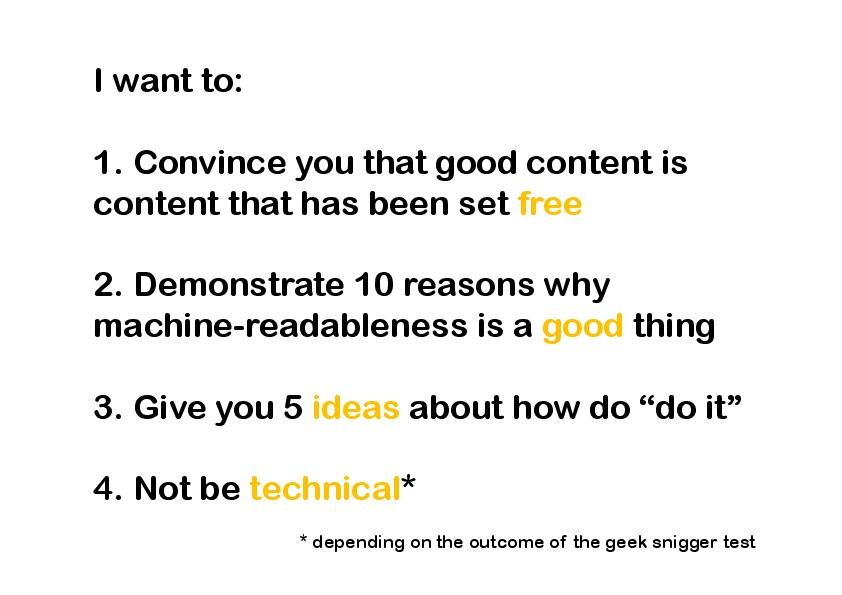paragraph: (83, 124, 800, 527)
title: (81, 52, 252, 104)
